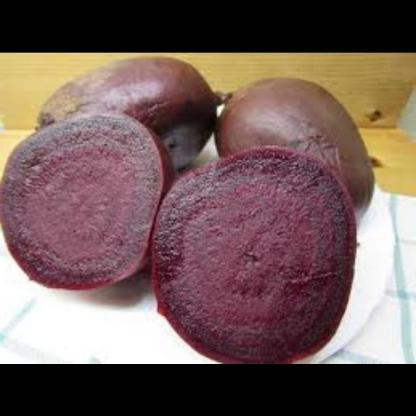beet: (148, 143, 362, 363), (0, 108, 170, 293), (211, 73, 380, 203), (23, 52, 216, 156)
